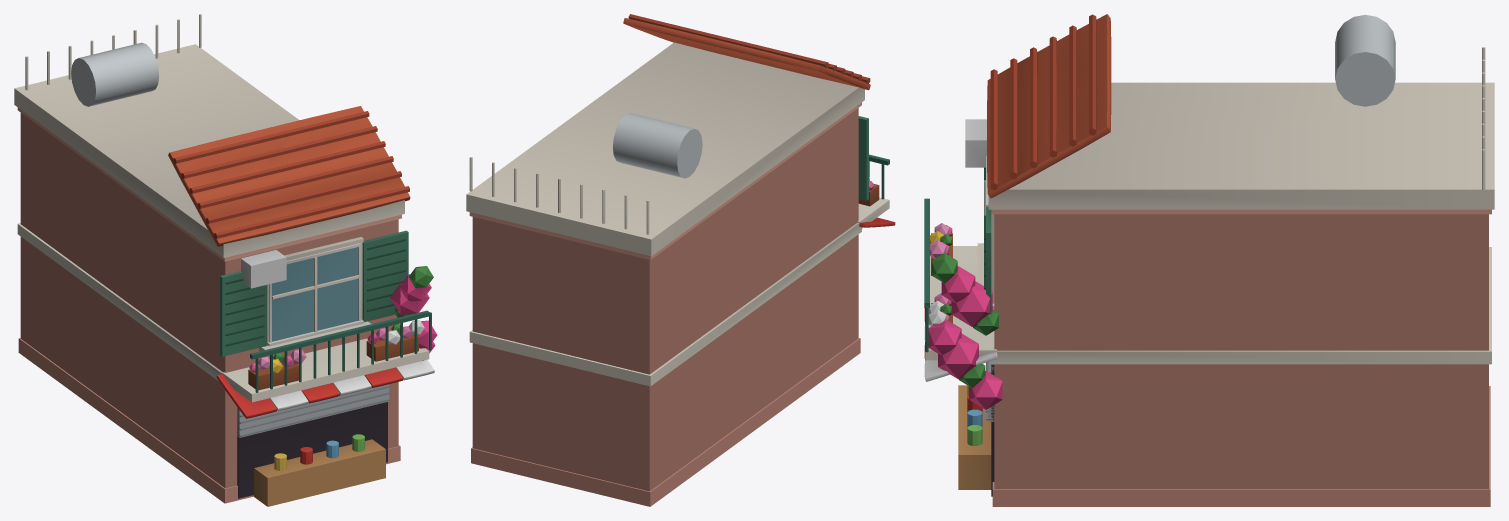
File: hs-dee8h9.glb
The picture shows the model from 3 angles, left to right: view 1: azimuth 30°, elevation 25°; view 2: azimuth 150°, elevation 25°; view 3: azimuth 270°, elevation 25°; orthographic projection. The views are drawn at different scales.
Bounding box in the file's own units: 5.07 × 7.95 × 10.37.
